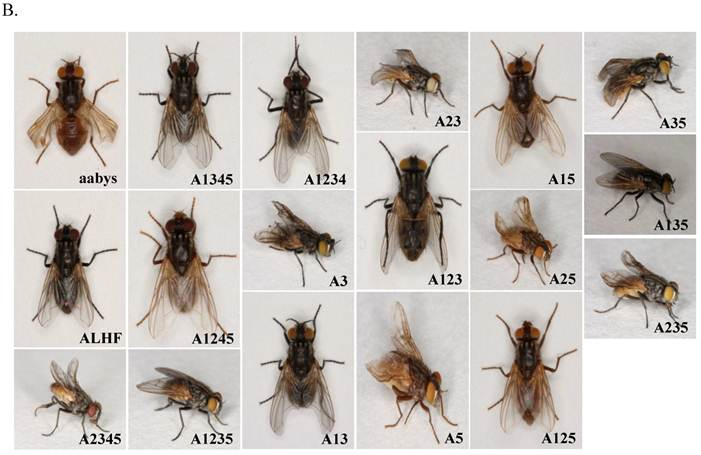fly: (134, 196, 238, 339), (364, 297, 459, 448), (250, 35, 345, 184), (364, 136, 466, 272), (135, 38, 235, 171), (475, 33, 569, 173), (252, 304, 349, 439), (482, 301, 581, 433), (24, 202, 120, 333), (20, 54, 122, 168), (136, 357, 235, 447), (591, 246, 689, 335), (251, 201, 344, 291), (593, 44, 688, 124), (594, 144, 680, 226), (32, 357, 113, 444), (485, 195, 564, 283), (369, 44, 456, 116)
